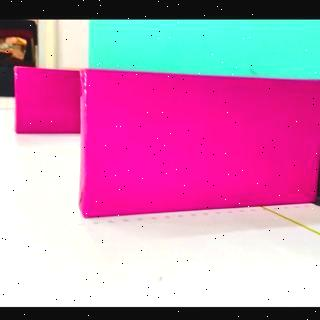xparking: (84, 69, 320, 217), (16, 70, 80, 135)
